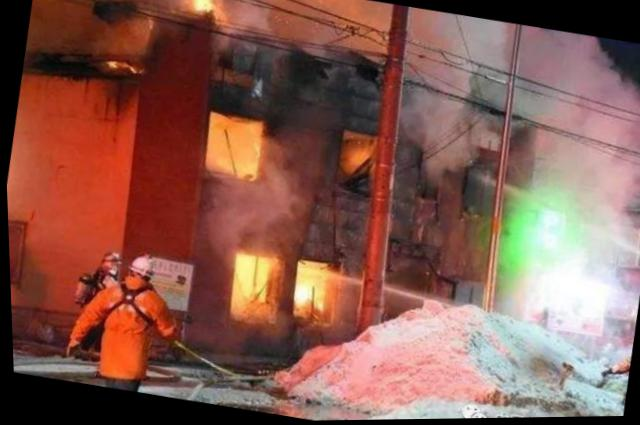fire: (222, 246, 336, 331), (199, 108, 264, 182), (93, 43, 144, 81), (184, 0, 219, 26)
